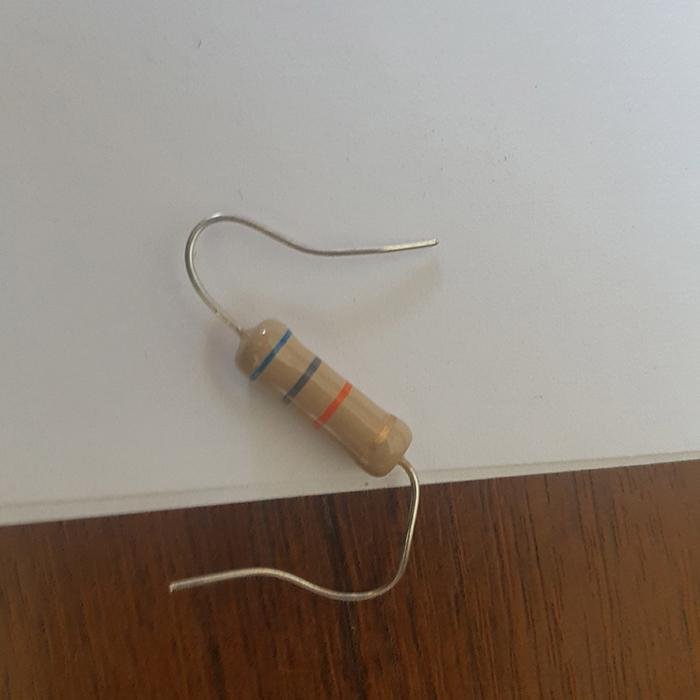resistor: (236, 316, 409, 472)
